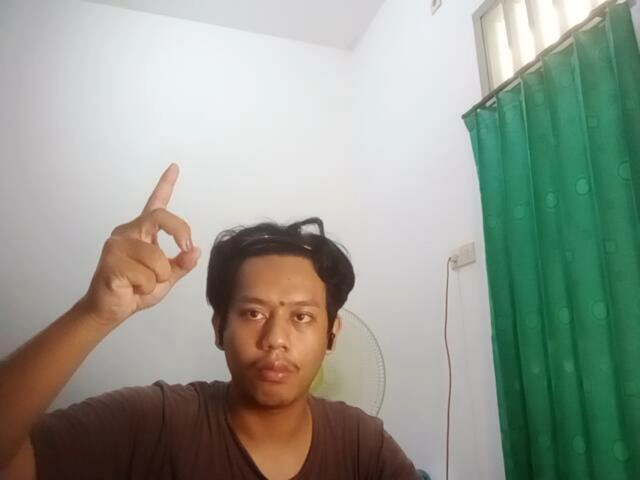D: (74, 159, 213, 318)
